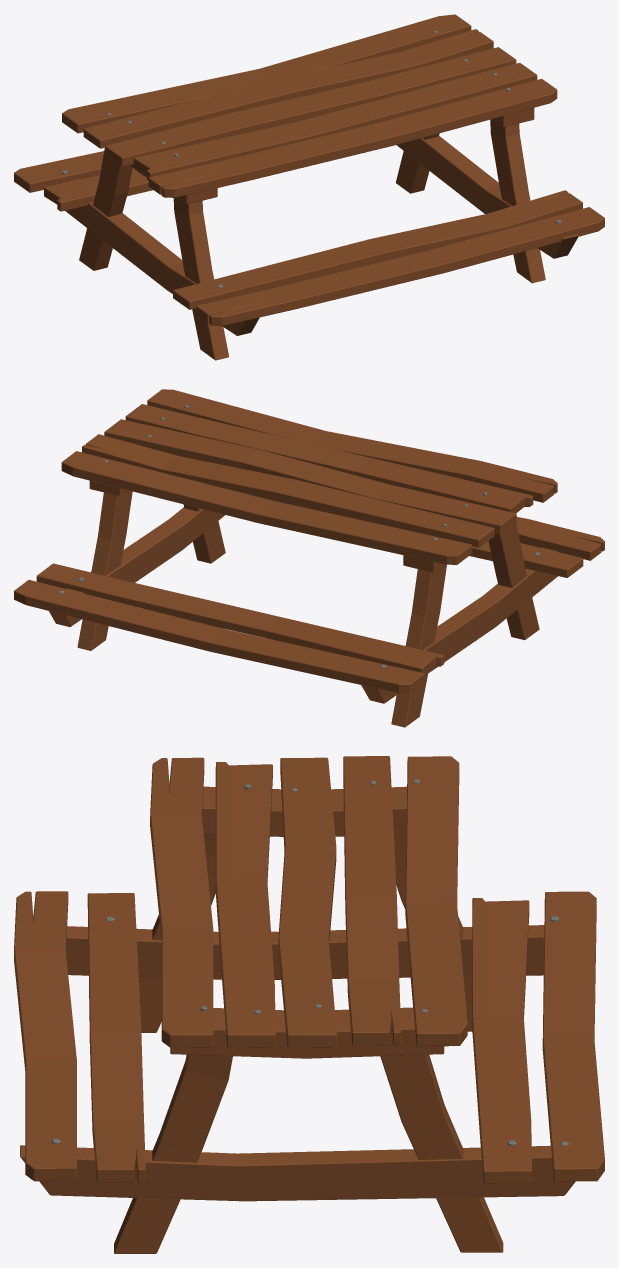
File: Bench.fbx
3 views of the same model, one above another, from view 1: azimuth 30°, elevation 25°; view 2: azimuth 150°, elevation 25°; view 3: azimuth 270°, elevation 25° (orthographic). The views are drawn at different scales.
Visible parts, largest first — view 1: Cube.8378; view 2: Cube.8378; view 3: Cube.8378.
Part boxes in pixels (x1=…): Cube.8378: x1=14, y1=14, x2=604, y2=360; Cube.8378: x1=14, y1=389, x2=604, y2=727; Cube.8378: x1=14, y1=756, x2=604, y2=1253.
Bounding box in the file's own units: 361 × 149 × 325.
1 material, 1 textured.
